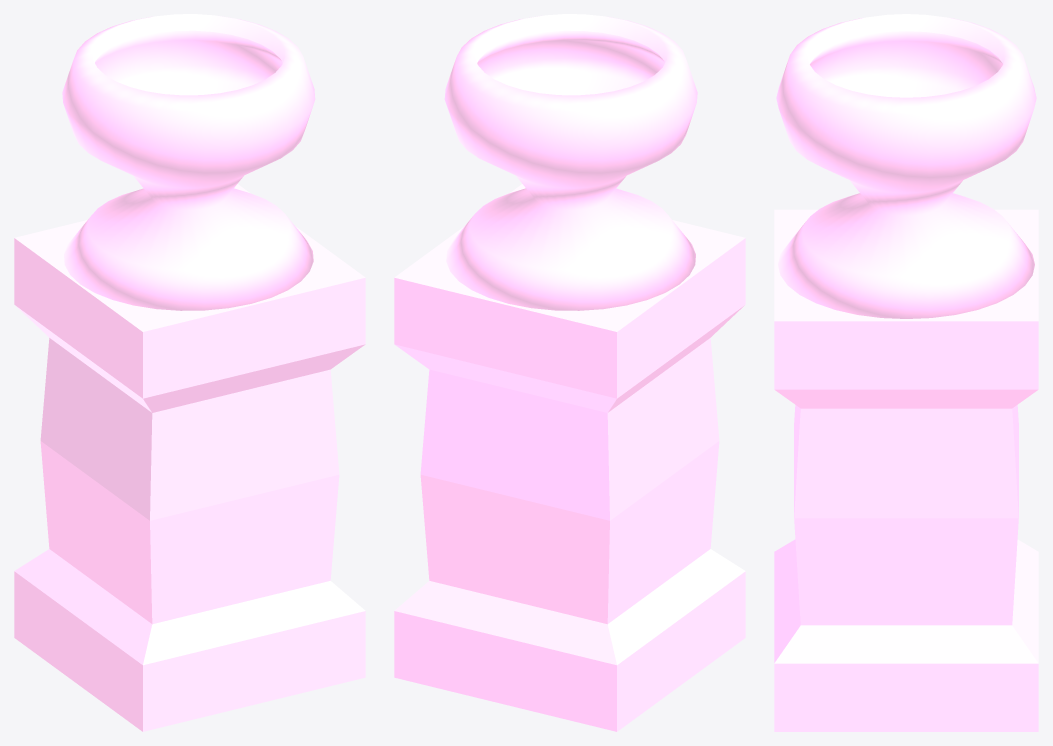
The model's file is flores.gltf.
The picture shows the model from 3 angles, left to right: view 1: azimuth 30°, elevation 25°; view 2: azimuth 150°, elevation 25°; view 3: azimuth 270°, elevation 25°; orthographic projection. The views are drawn at different scales.
Parts seen in each view (by area): view 1: Stub, Cylinder.000; view 2: Stub, Cylinder.000; view 3: Stub, Cylinder.000.
Part boxes in pixels (bbox=[...]): Stub: bbox=[14, 184, 365, 731]; Cylinder.000: bbox=[62, 14, 315, 310]; Stub: bbox=[394, 184, 745, 731]; Cylinder.000: bbox=[444, 14, 697, 310]; Stub: bbox=[774, 209, 1038, 731]; Cylinder.000: bbox=[776, 14, 1036, 318].
Bounding box in the file's own units: 0.7 × 1.81 × 0.7.
